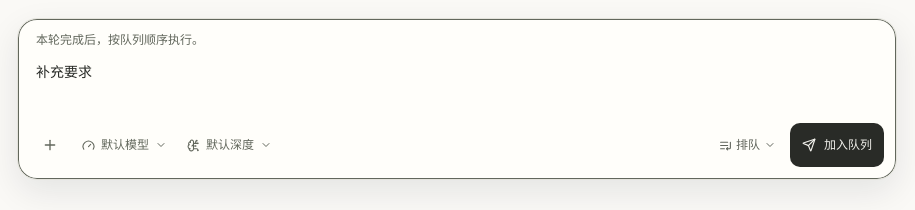
Test case: Composer 浮层缺陷回归 › 发送模式菜单响应 Escape（旧实现两个都不听）
Click the button "排队" at point(748, 145), box 711,125 -> 784,165
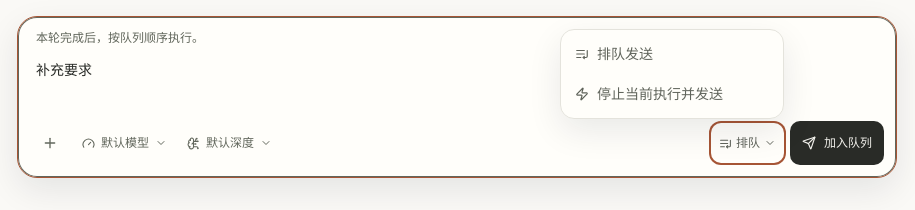
Now the button "排队发送" is shown, box 565,34 -> 779,74
Press Escape
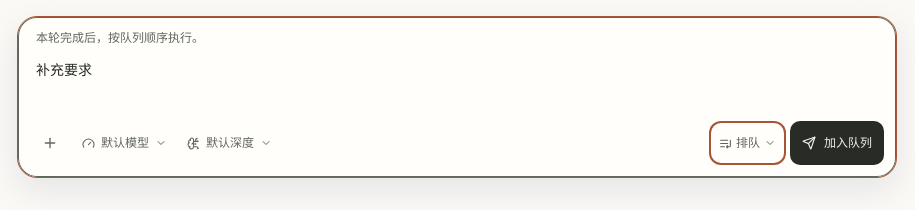
Now the button "排队发送" is gone
